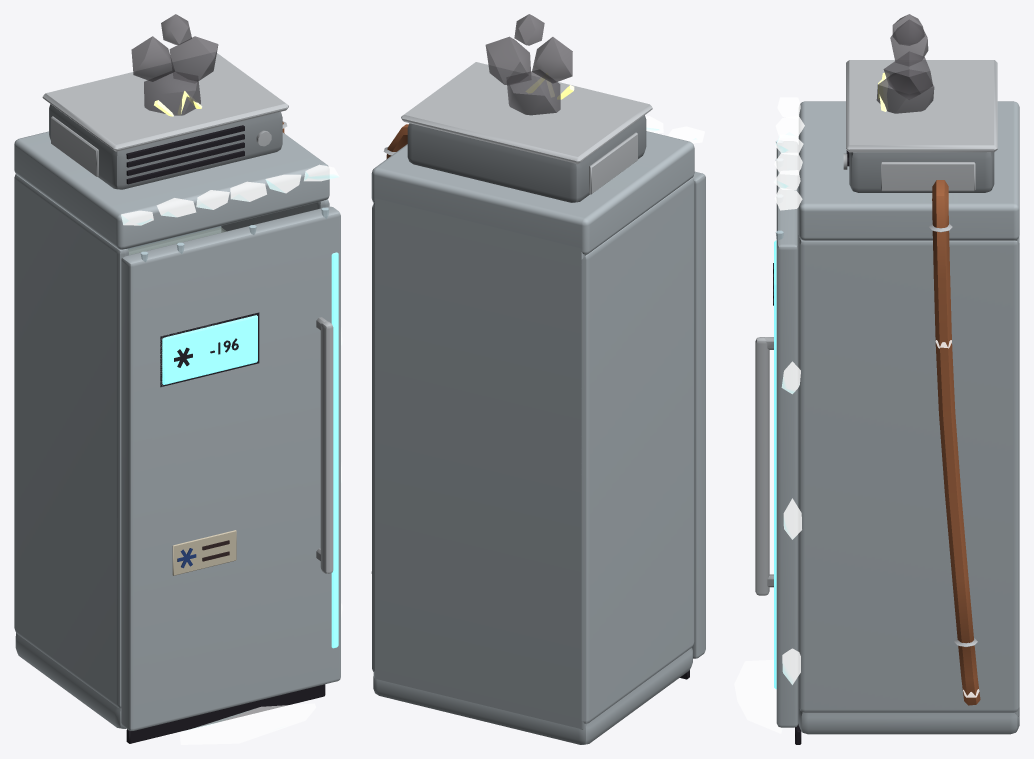
Rendered from fridge_cryo.glb.
3 renders of one model, left to right at view 1: azimuth 30°, elevation 25°; view 2: azimuth 150°, elevation 25°; view 3: azimuth 270°, elevation 25°, orthographic. The views are drawn at different scales.
Visible parts, largest first — view 1: door_leaf, fridge_cryo, glow, frost, broken; view 2: fridge_cryo, door_leaf, broken, frost; view 3: fridge_cryo, door_leaf, frost, broken, glow.
Boxes of the visible parts, x1,y1,x2,y2 form: door_leaf: (121,206,340,730); fridge_cryo: (14,52,329,743); glow: (162,252,338,648); frost: (121,164,342,744); broken: (131,14,218,116); fridge_cryo: (371,62,694,744); door_leaf: (692,171,705,658); broken: (485,14,574,115); frost: (645,116,704,143); fridge_cryo: (795,60,1019,744); door_leaf: (755,141,798,727); frost: (734,97,979,733); broken: (876,14,934,113); glow: (773,240,776,688).
Size of the model in its own units: 0.8909 by 2.39 by 0.9043.
